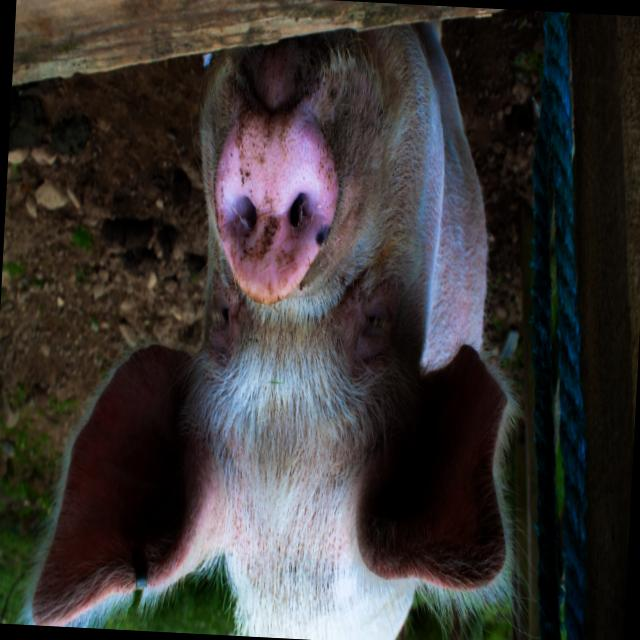pig: (27, 20, 511, 640)
